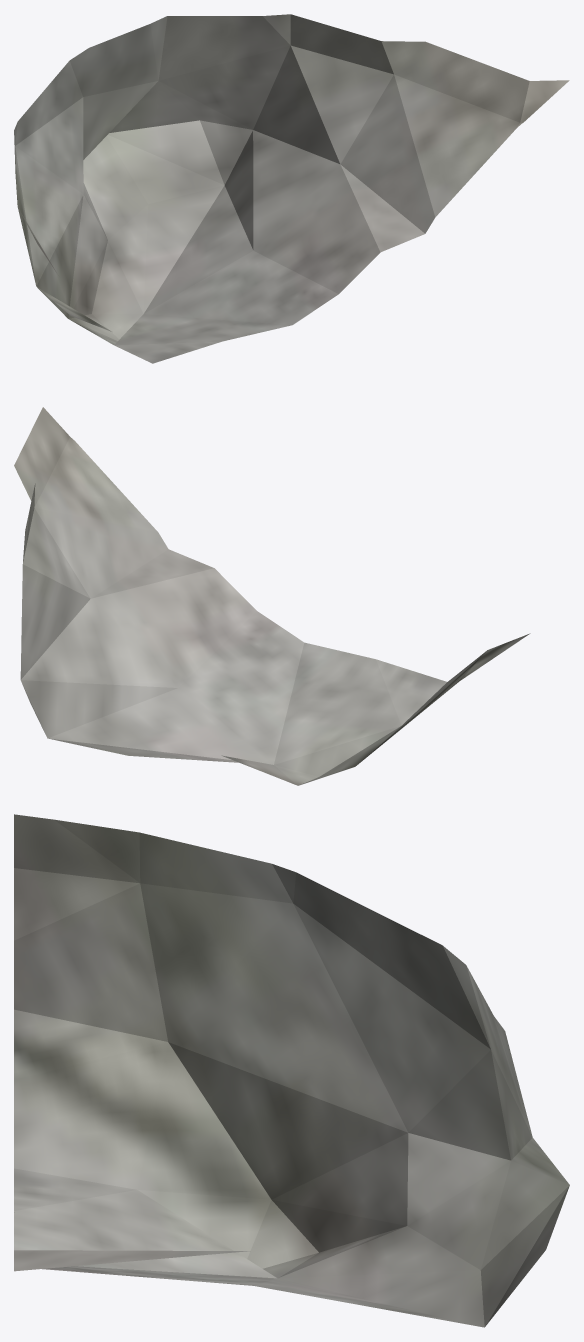
3 renders of one model, top to bottom at view 1: azimuth 30°, elevation 25°; view 2: azimuth 150°, elevation 25°; view 3: azimuth 270°, elevation 25°, orthographic. The views are drawn at different scales.
Size of the model in its own units: 1.83 by 0.7477 by 1.11.
1 material, 1 textured.
